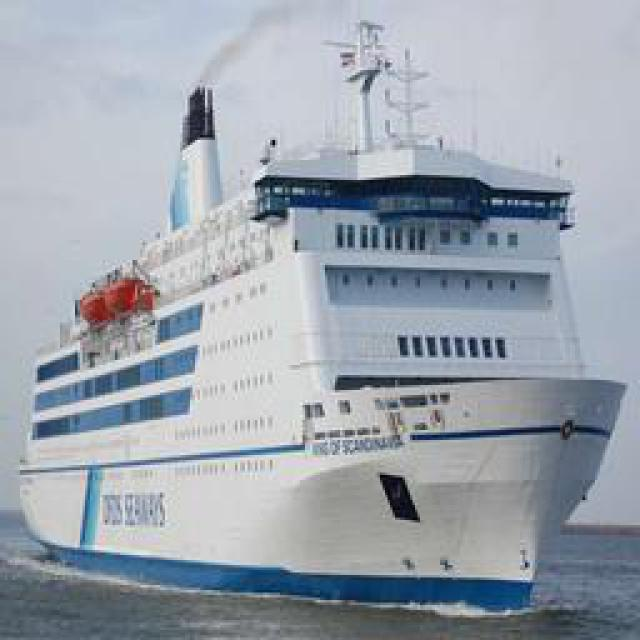Ship: (20, 56, 623, 611)
